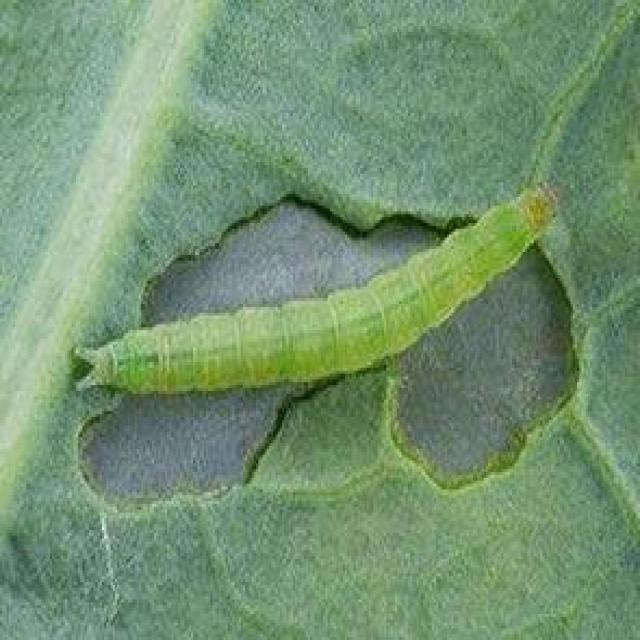armyworm: (62, 154, 580, 423)
